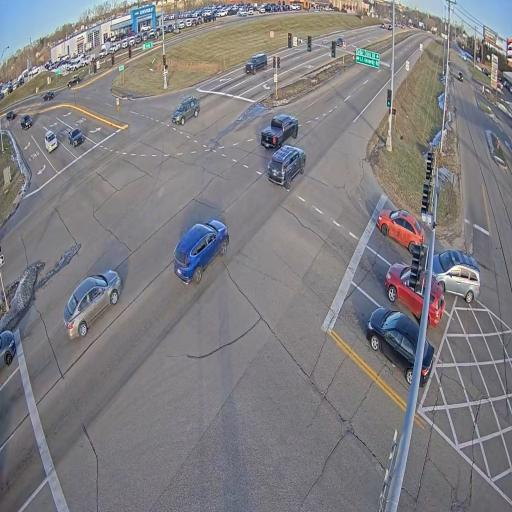pickup: (261, 114, 298, 148)
sedan: (366, 307, 419, 384), (63, 269, 122, 338), (377, 210, 425, 253), (419, 339, 434, 387), (0, 330, 16, 368), (68, 128, 84, 147), (336, 37, 345, 46), (387, 24, 392, 30), (380, 23, 385, 28)
suv: (173, 218, 229, 283), (433, 249, 481, 302), (385, 263, 424, 320), (267, 146, 306, 190), (427, 277, 445, 327), (171, 96, 200, 125), (246, 53, 267, 74), (45, 131, 58, 153), (67, 74, 80, 88), (20, 114, 32, 129), (43, 91, 54, 101), (6, 110, 16, 120), (457, 72, 463, 82), (401, 23, 405, 29)
